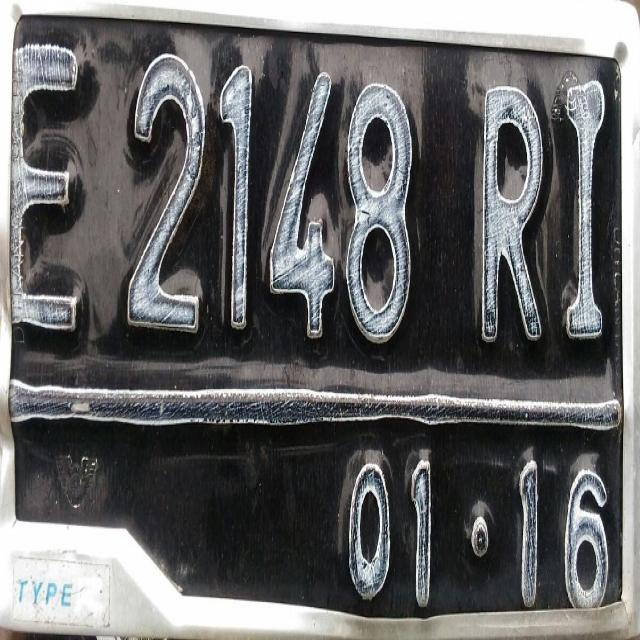plate: (7, 4, 639, 640)
